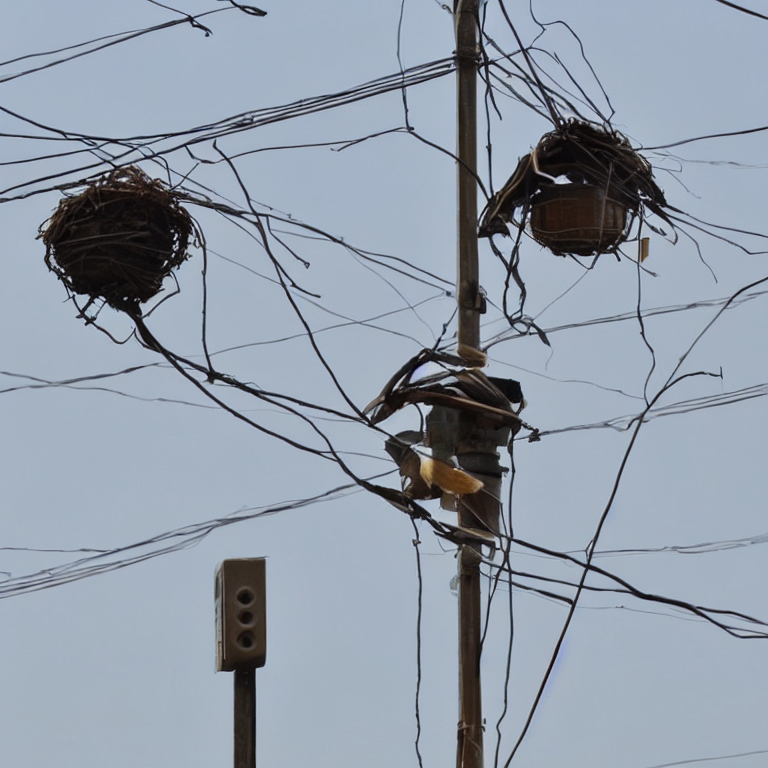nest: (41, 172, 195, 299), (525, 126, 648, 249)
